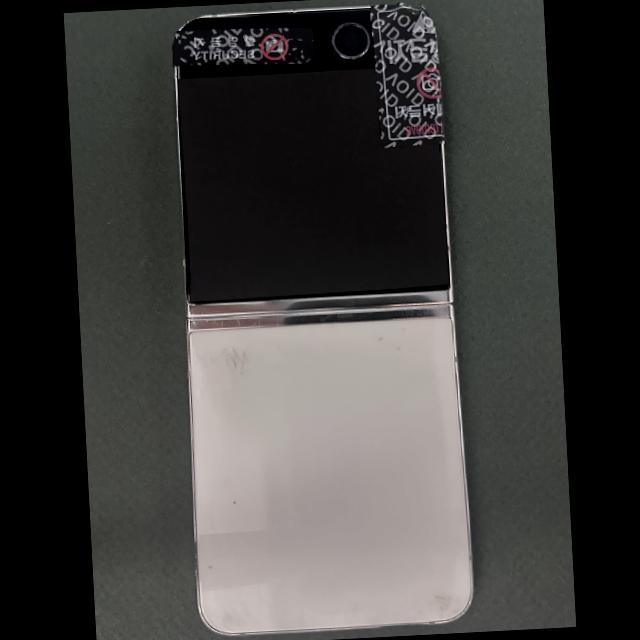lens: (331, 23, 369, 60)
phone: (173, 4, 471, 634)
sticker: (371, 1, 445, 148), (171, 26, 314, 68)
